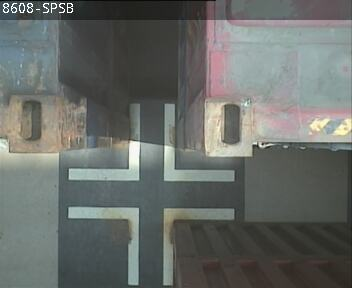groundmarker_1: (69, 103, 236, 182), (68, 206, 235, 284)
